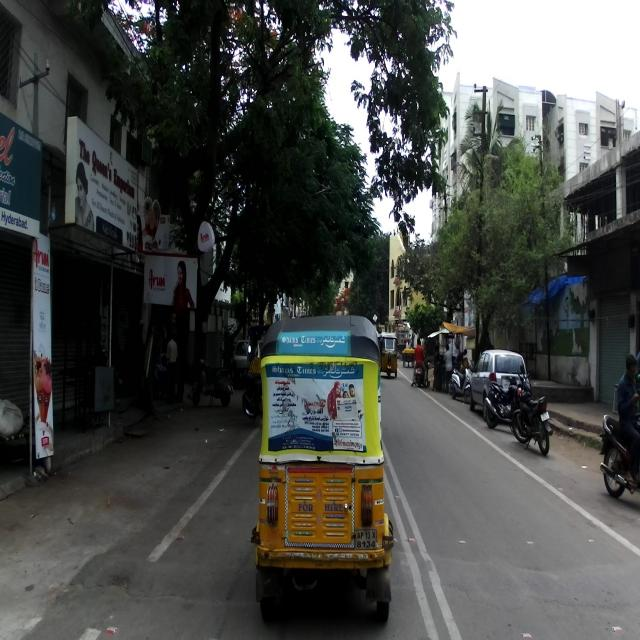autorickshaw: (250, 314, 394, 624)
motorcycle_Hero: (510, 371, 552, 455), (599, 413, 639, 496)
motorcycle_bajaj: (484, 370, 534, 428)
